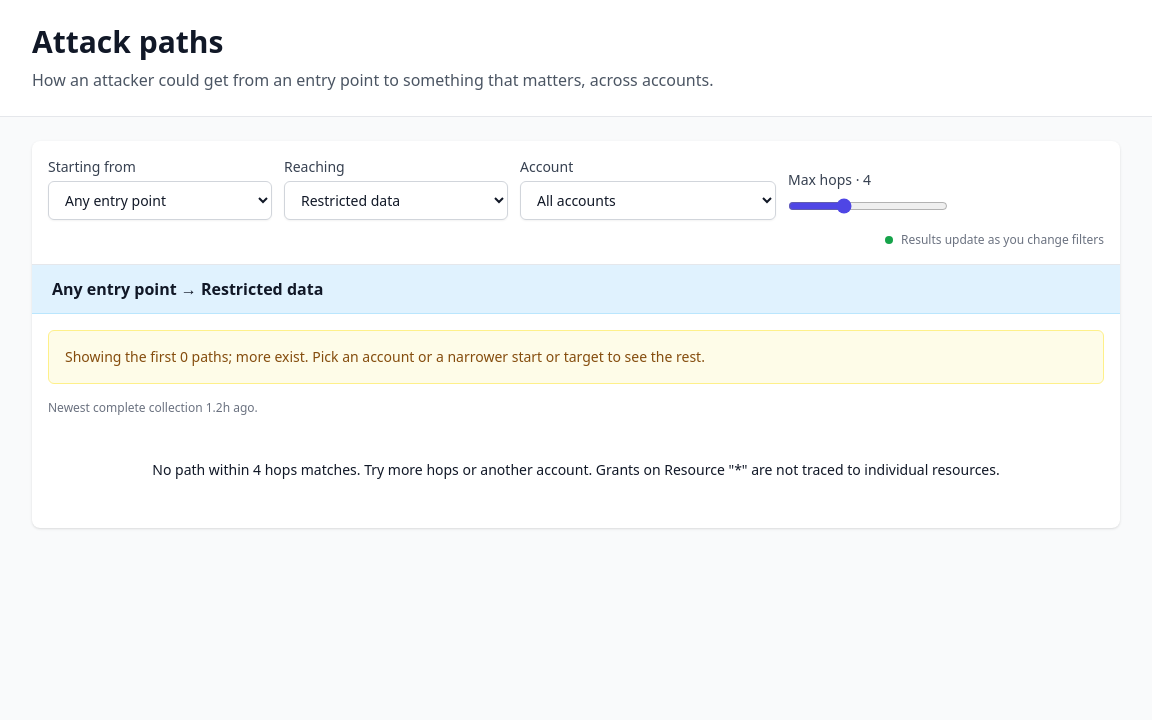
AttackPathsPage › clears a stale graph when a search fails
Expected: the text "more exist" is shown, [228,347,705,366]
Select "Crown jewels" in the dropdown labelled "Reaching" at {"x": 396, "y": 200}, box [284,181,508,220]
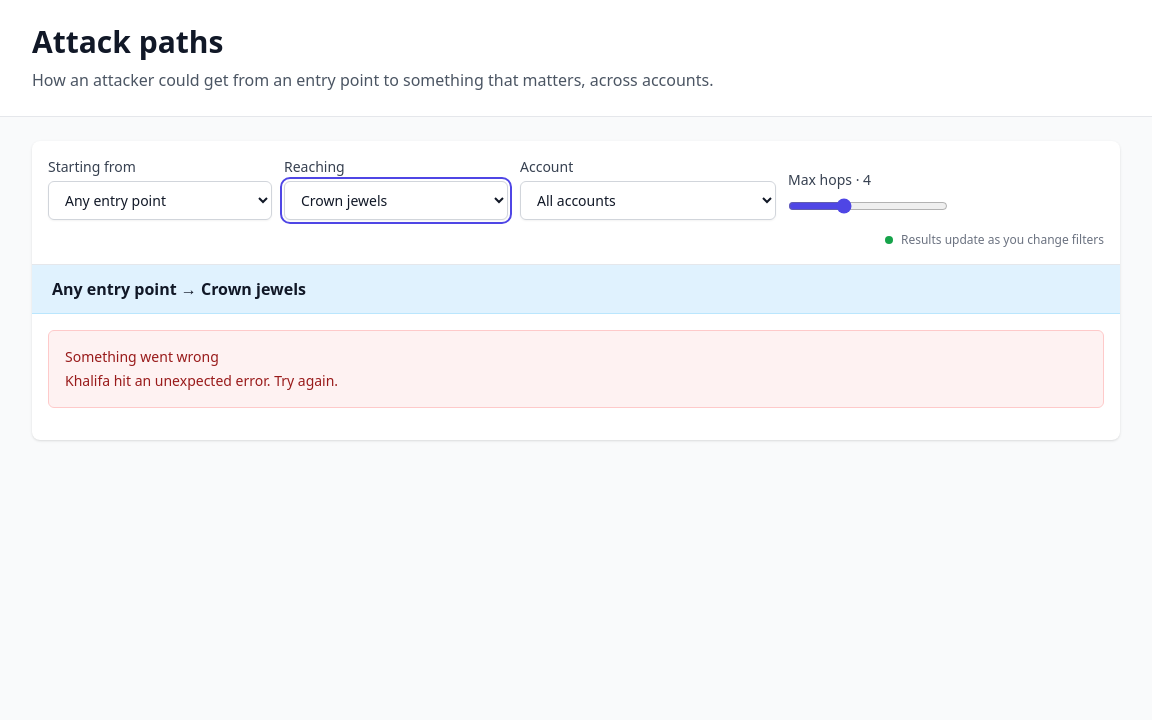
Expected: the message "Something went wrong Khalifa hit an unexpected error. Try again." is shown, [48,330,1104,408]
Expected: the text "more exist" is gone
